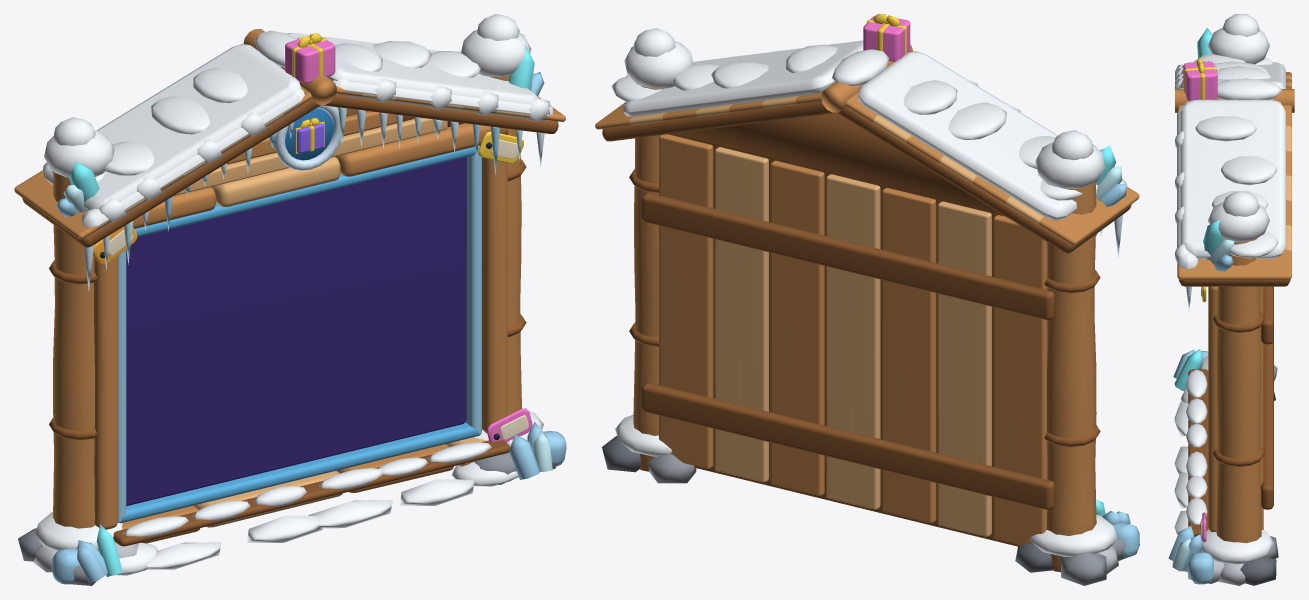
The model's file is CodesKiosk.fbx.
3 views of the same model, side by side, from view 1: azimuth 30°, elevation 25°; view 2: azimuth 150°, elevation 25°; view 3: azimuth 270°, elevation 25° (orthographic). The views are drawn at different scales.
Visible parts, largest first — view 1: CodesKioskPanel, CodesKioskWood, CodesKioskSnow, CodesKioskIce, CodesKioskGifts, CodesKioskCrystals, CodesKioskStone; view 2: CodesKioskWood, CodesKioskSnow, CodesKioskStone, CodesKioskGifts, CodesKioskCrystals, CodesKioskIce; view 3: CodesKioskSnow, CodesKioskWood, CodesKioskCrystals, CodesKioskStone, CodesKioskGifts, CodesKioskIce.
Boxes of the visible parts, x1,y1,x2,y2 form: CodesKioskPanel: (126,157,466,506); CodesKioskWood: (14,29,565,546); CodesKioskSnow: (34,14,553,575); CodesKioskIce: (51,105,566,584); CodesKioskGifts: (93,33,532,442); CodesKioskCrystals: (56,45,552,583); CodesKioskStone: (18,452,556,585); CodesKioskWood: (595,44,1139,572); CodesKioskSnow: (611,28,1126,556); CodesKioskStone: (602,436,1126,585); CodesKioskGifts: (863,14,1097,235); CodesKioskCrystals: (626,75,1130,524); CodesKioskIce: (1100,215,1139,557); CodesKioskSnow: (1174,14,1285,564); CodesKioskWood: (1175,72,1294,543); CodesKioskCrystals: (1168,28,1234,571); CodesKioskStone: (1187,358,1278,585); CodesKioskGifts: (1183,58,1217,542); CodesKioskIce: (1186,286,1213,584).
Size of the model in its own units: 177 by 163 by 44.27.
